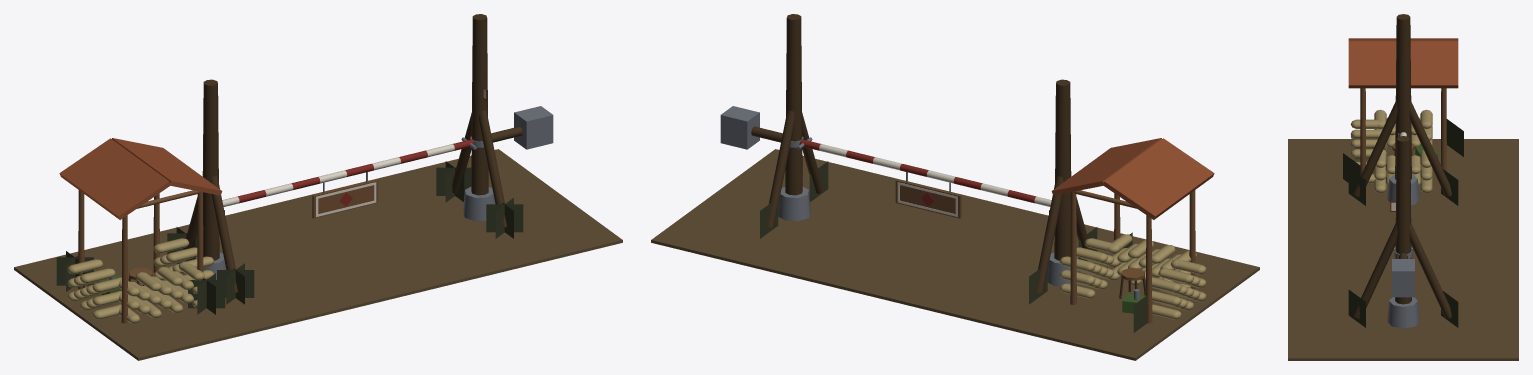
Rendered from firebase-entrance-gate-about.glb.
3 views of the same model, side by side, from view 1: azimuth 30°, elevation 25°; view 2: azimuth 150°, elevation 25°; view 3: azimuth 270°, elevation 25° (orthographic). The views are drawn at different scales.
Visible parts, largest first — view 1: Mesh_GroundBase, Mesh_GuardRoofA, Mesh_LeftPost, Mesh_RightPost, Mesh_GuardRoofB, Mesh_CounterWeight, Mesh_SignBoard, Mesh_Fern2, Mesh_Fern5, Mesh_Fern4, Mesh_LeftPostBraceF, Mesh_RightPostBraceF (+7 smaller); view 2: Mesh_GroundBase, Mesh_GuardRoofA, Mesh_LeftPost, Mesh_RightPost, Mesh_GuardRoofB, Mesh_CounterWeight, Mesh_SignBoard, Mesh_LeftPostBraceB, Mesh_RightPostBraceB, Mesh_LeftFooting, Mesh_RoofPostBL, Mesh_RoofPostBR (+3 smaller); view 3: Mesh_GroundBase, Mesh_GuardRoofB, Mesh_RightPost, Mesh_LeftPost, Mesh_LeftPostBraceB, Mesh_RightPostBraceB, Mesh_CounterWeight, Mesh_LeftPostBraceF, Mesh_RightPostBraceF, Mesh_LeftFooting, Mesh_RoofPostFL, Mesh_RoofPostBL (+12 smaller).
Part boxes in pixels (x1,y1,x2,y2): Mesh_GroundBase: (14,149,622,360); Mesh_GuardRoofA: (59,138,170,219); Mesh_LeftPost: (471,14,488,195); Mesh_RightPost: (202,79,219,260); Mesh_GuardRoofB: (112,138,222,195); Mesh_CounterWeight: (514,106,553,149); Mesh_SignBoard: (312,179,378,218); Mesh_Fern2: (486,198,523,238); Mesh_Fern5: (188,273,225,314); Mesh_Fern4: (217,263,254,304); Mesh_LeftPostBraceF: (479,110,506,227); Mesh_RightPostBraceF: (210,176,237,293); Mesh_GroundBase: (651,149,1259,360); Mesh_GuardRoofA: (1103,138,1214,219); Mesh_LeftPost: (785,14,802,195); Mesh_RightPost: (1054,79,1071,260); Mesh_GuardRoofB: (1051,138,1161,195); Mesh_CounterWeight: (720,106,759,149); Mesh_SignBoard: (895,179,961,218); Mesh_LeftPostBraceB: (767,110,794,227); Mesh_RightPostBraceB: (1036,176,1063,293); Mesh_LeftFooting: (778,187,810,221); Mesh_RoofPostBL: (1070,192,1076,305); Mesh_RoofPostBR: (1146,215,1152,323); Mesh_GroundBase: (1288,139,1518,360); Mesh_GuardRoofB: (1348,41,1458,88); Mesh_RightPost: (1395,14,1411,179); Mesh_LeftPost: (1395,136,1411,304); Mesh_LeftPostBraceB: (1409,223,1451,318); Mesh_RightPostBraceB: (1409,101,1451,196); Mesh_CounterWeight: (1392,259,1414,297); Mesh_LeftPostBraceF: (1353,223,1397,318); Mesh_RightPostBraceF: (1353,101,1397,196); Mesh_LeftFooting: (1387,297,1419,328); Mesh_RoofPostFL: (1360,88,1365,175); Mesh_RoofPostBL: (1441,88,1446,171).
Size of the model in its own units: 9 by 3.55 by 4.
Materials: 1 (1 with a texture image).
